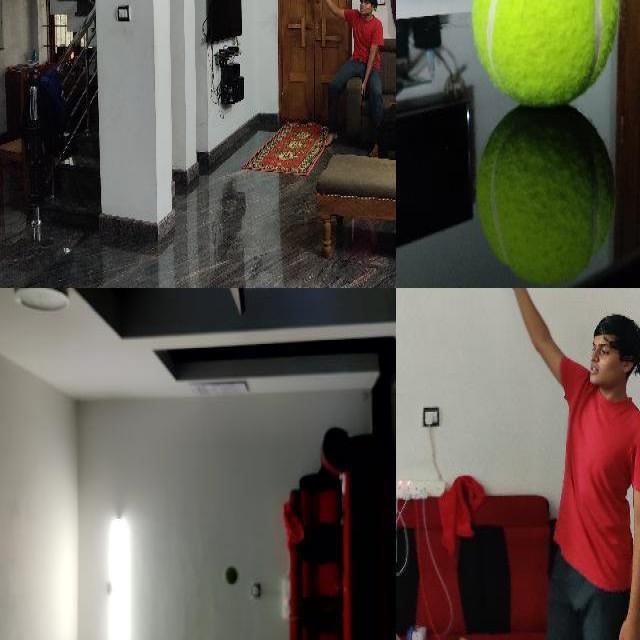tennis-ball: (471, 0, 620, 108), (222, 567, 237, 585)
